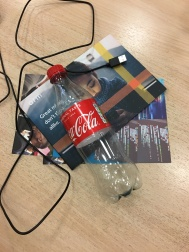bottle_red: (39, 58, 154, 213)
